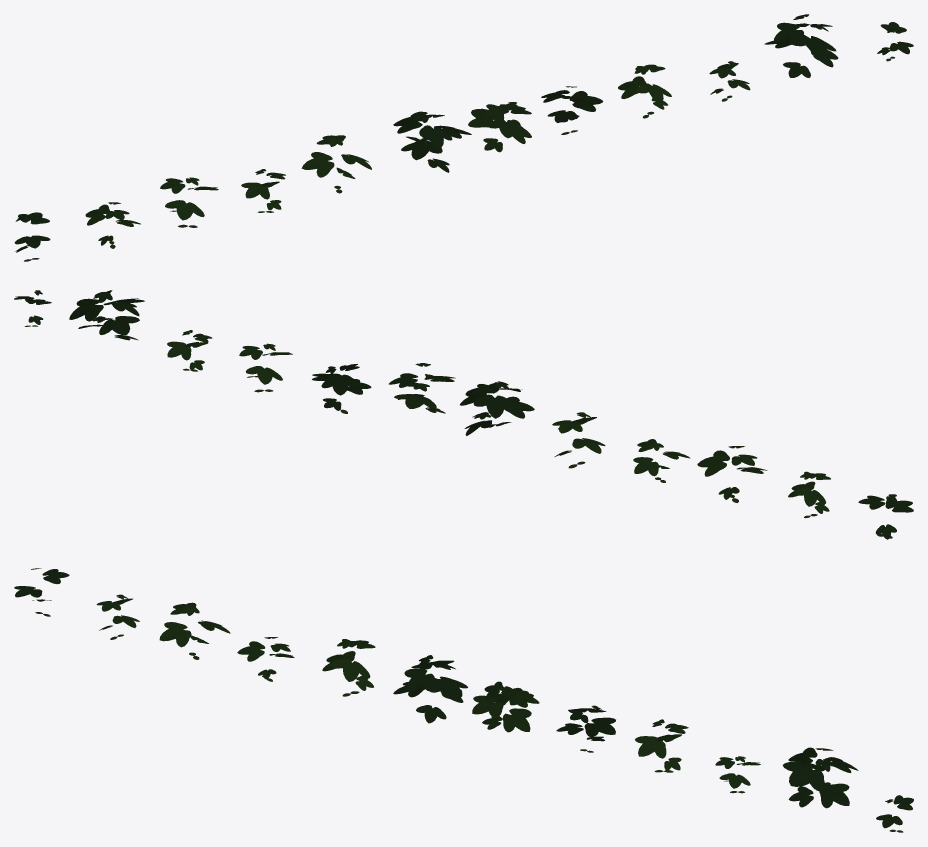
The model's file is ROW_11_SEG5_foliage.dae.
The picture shows the model from 3 angles, top to bottom: view 1: azimuth 30°, elevation 25°; view 2: azimuth 150°, elevation 25°; view 3: azimuth 330°, elevation 25°; orthographic projection.
Visible parts, largest first — view 1: ROW_11_SEG5_foliage; view 2: ROW_11_SEG5_foliage; view 3: ROW_11_SEG5_foliage.
Boxes of the visible parts, bbox=[...] form: ROW_11_SEG5_foliage: bbox=[14, 14, 913, 261]; ROW_11_SEG5_foliage: bbox=[14, 290, 913, 539]; ROW_11_SEG5_foliage: bbox=[14, 568, 913, 832].
Bounding box in the file's own units: 3.51 × 0.2762 × 0.2295.
